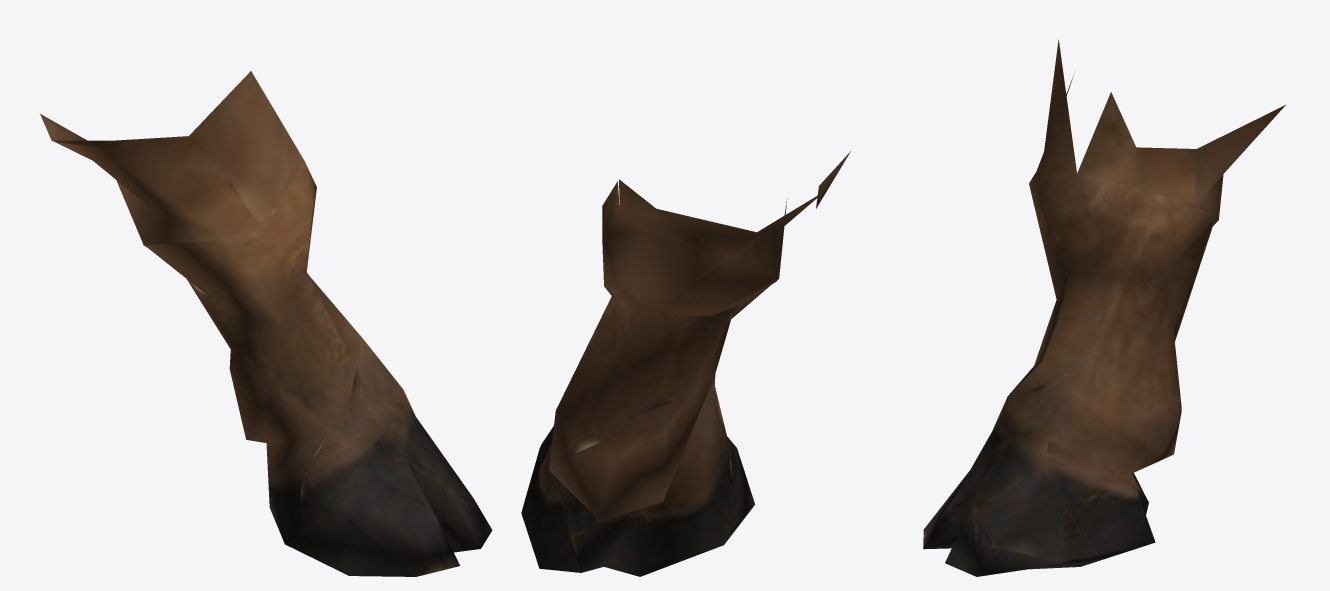
File: bull_leg_fposx.glb
3 views of the same model, side by side, from view 1: azimuth 30°, elevation 25°; view 2: azimuth 150°, elevation 25°; view 3: azimuth 270°, elevation 25° (orthographic). The views are drawn at different scales.
Visible parts, largest first — view 1: bull_leg_fposx; view 2: bull_leg_fposx; view 3: bull_leg_fposx.
Boxes of the visible parts, x1,y1,x2,y2 form: bull_leg_fposx: (40,71,492,576); bull_leg_fposx: (521,151,850,576); bull_leg_fposx: (923,40,1285,576).
Bounding box in the file's own units: 0.7699 × 0.9639 × 0.764.
Materials: 1 (1 with a texture image).
